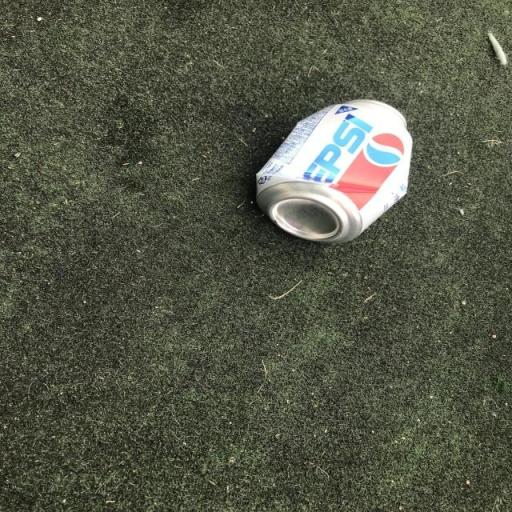metal: (244, 94, 438, 256)
